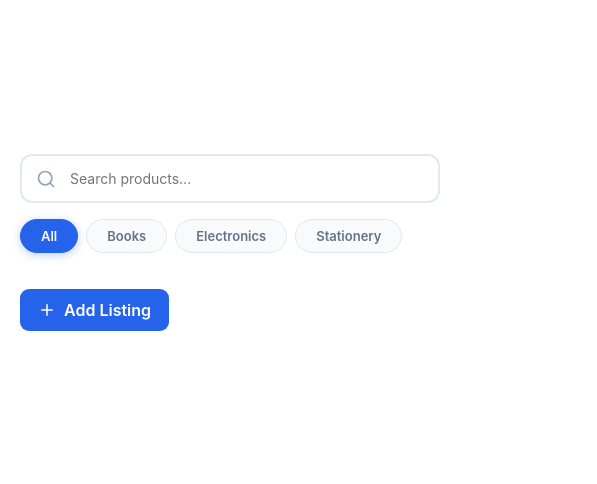
Marketplace Page › opens the create listing form
What coordinates should you click on to do the following:
click the button "Add Listing"
I would click on:
 (95, 310)
Its box is left=20, top=289, right=169, bottom=331.
(page scrolled)
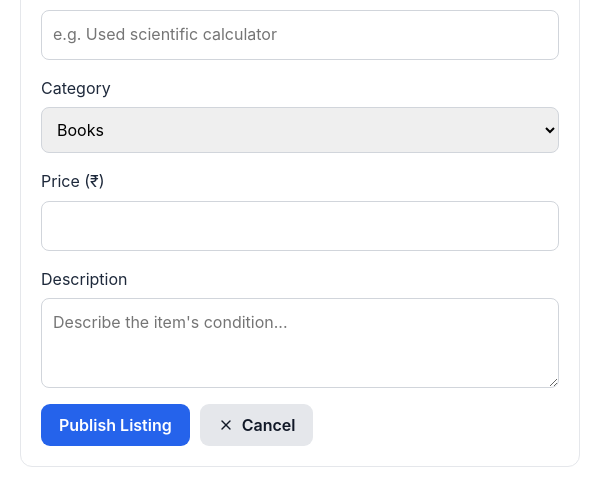
Now the field labelled "Title" is shown, box left=41, top=10, right=559, bottom=60
Now the dropdown labelled "Category" is shown, box left=41, top=107, right=559, bottom=153
Now the number field labelled "Price (₹)" is shown, box left=41, top=201, right=559, bottom=251
